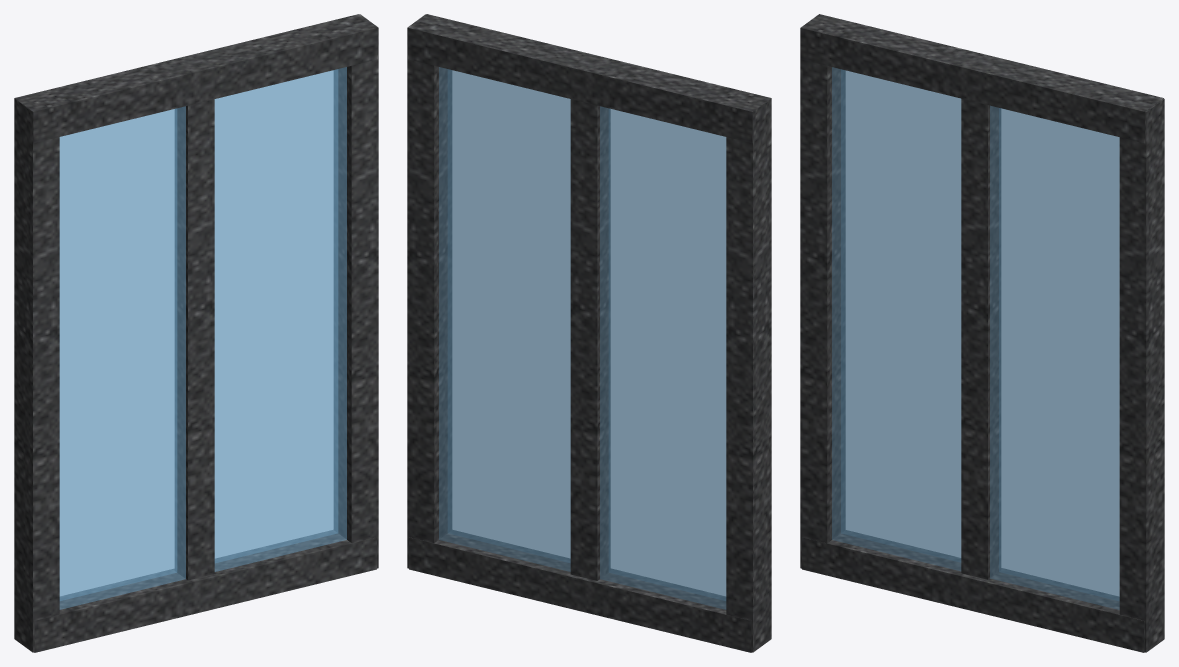
File: 01_window_double.glb
The picture shows the model from 3 angles, left to right: view 1: azimuth 30°, elevation 25°; view 2: azimuth 150°, elevation 25°; view 3: azimuth 330°, elevation 25°; orthographic projection.
Parts seen in each view (by area): view 1: Glass, frame; view 2: Glass, frame; view 3: Glass, frame.
Part boxes in pixels (x1,y1,x2,y2): Glass: (59, 67, 346, 609); frame: (14, 14, 378, 652); Glass: (439, 67, 726, 609); frame: (407, 14, 771, 652); Glass: (832, 67, 1119, 609); frame: (800, 14, 1164, 652).
Size of the model in its own units: 2 by 3 by 0.1901.
